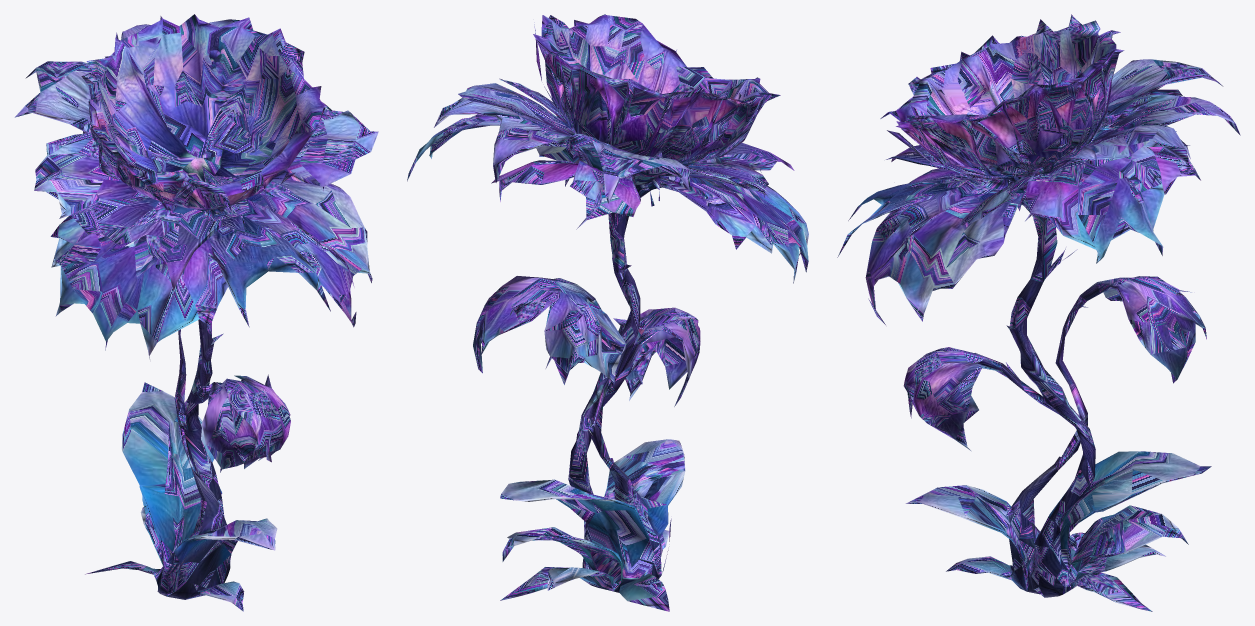
File: nebula-bloom.glb
3 renders of one model, left to right at view 1: azimuth 30°, elevation 25°; view 2: azimuth 150°, elevation 25°; view 3: azimuth 270°, elevation 25°, orthographic.
Bounding box in the file's own units: 1.17 × 1.9 × 1.29.
Materials: 1 (1 with a texture image).
